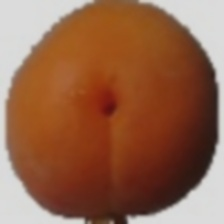apricot: (32, 7, 175, 176)
